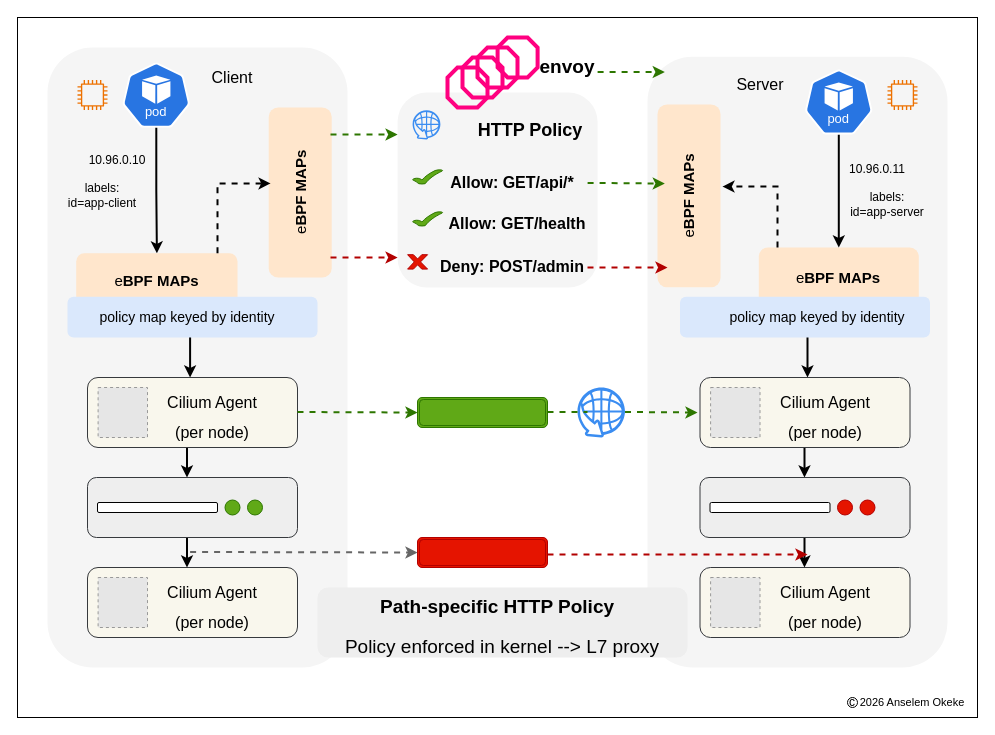
This 995x735 diagram has some shape labels left out. Grey dashed boxes stand in for pictures. The box of each missing label's shape, as (x1, y1, x2, y2) in pixels:
ALLOWED: (416, 396, 548, 428)
DENIED: (416, 536, 548, 568)
